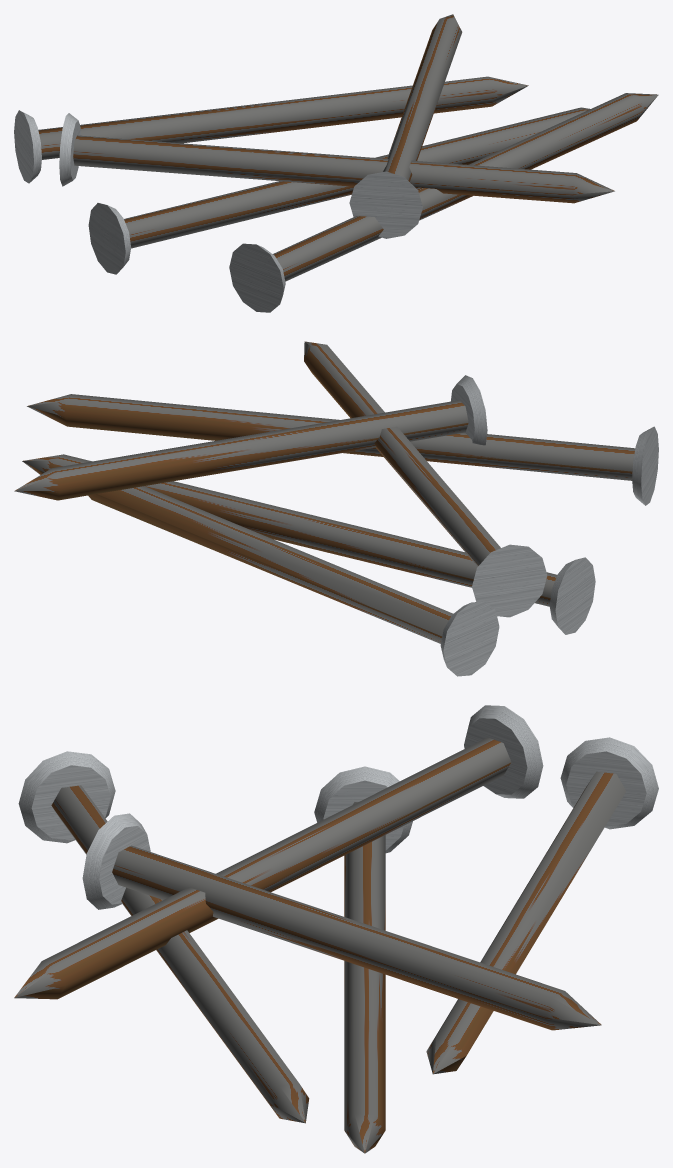
The model's file is nails.obj.
3 renders of one model, top to bottom at view 1: azimuth 30°, elevation 25°; view 2: azimuth 150°, elevation 25°; view 3: azimuth 270°, elevation 25°, orthographic. The views are drawn at different scales.
Parts seen in each view (by area): view 1: nails_0_surface; view 2: nails_0_surface; view 3: nails_0_surface.
Boxes of the visible parts, left/top/right/bottom form: nails_0_surface: left=14, top=14, right=658, bottom=312; nails_0_surface: left=14, top=341, right=658, bottom=676; nails_0_surface: left=14, top=705, right=658, bottom=1153.
Bounding box in the file's own units: 0.1846 × 0.04 × 0.1398.
1 material, 1 textured.
